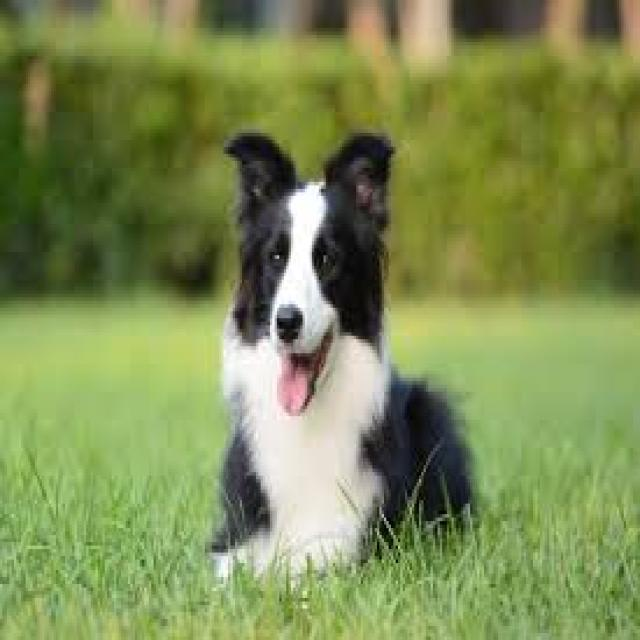BORDER_COLLIE: (180, 94, 489, 585)
